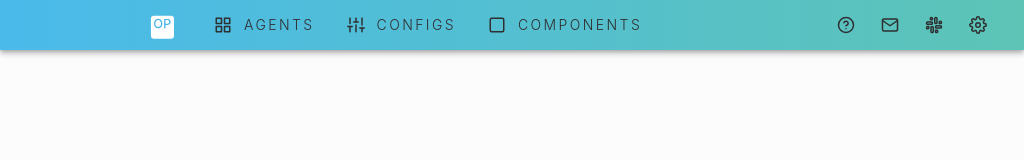
Test case: NavBar › displays settings menu
Click the button with test id "settings-button". click: click(978, 25)
box: [961,8,995,42]
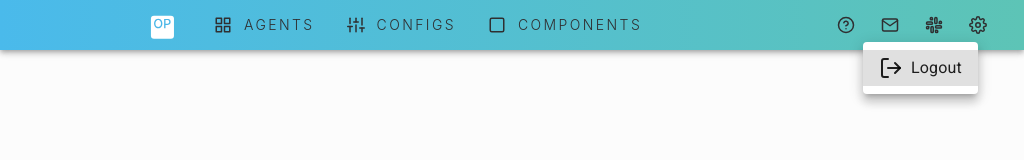
Expected: the menu item "Logout" is shown, [863,50,978,86]
